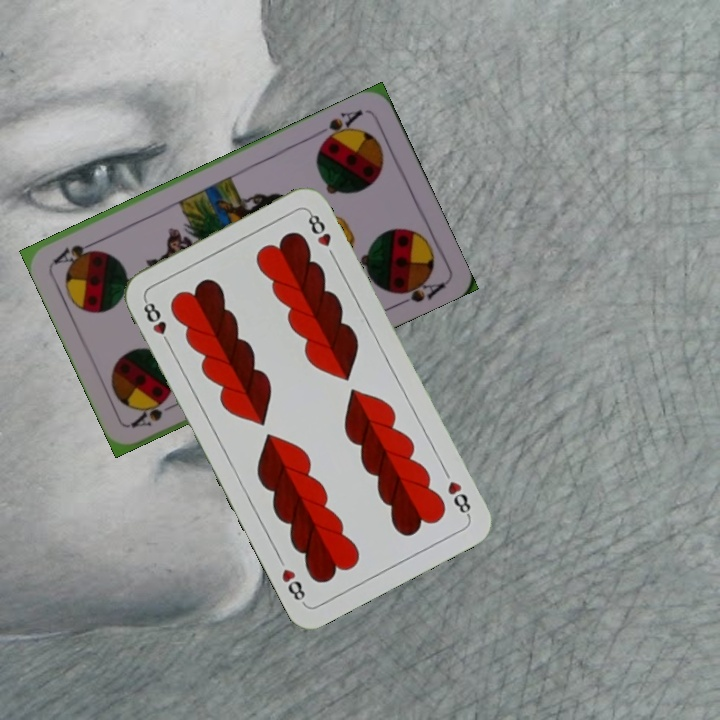H8: (139, 295, 174, 349), (443, 477, 474, 520)
SA: (312, 105, 366, 147), (127, 395, 183, 431)
